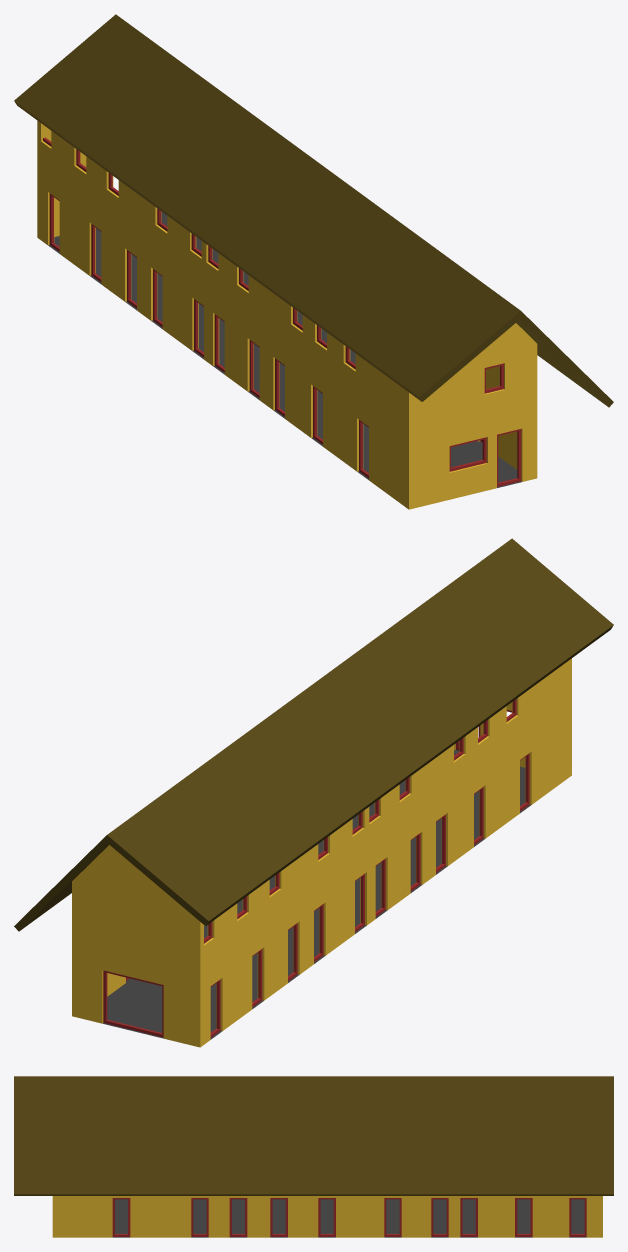
Rendered from result.dae.
The picture shows the model from 3 angles, top to bottom: view 1: azimuth 30°, elevation 25°; view 2: azimuth 150°, elevation 25°; view 3: azimuth 270°, elevation 25°; orthographic projection. The views are drawn at different scales.
Visible parts, largest first — view 1: 794bcbae-4f09-48e4-bf8c-0246c3dde134__undefined (×5), a7e94f88-aae9-4187-b9a9-494f67b69dd1__undefined (×3), 9594ddf9-9bd0-4304-9cac-db482d6d5795__Plane_44; view 2: 794bcbae-4f09-48e4-bf8c-0246c3dde134__undefined (×4), a7e94f88-aae9-4187-b9a9-494f67b69dd1__undefined (×2), 9594ddf9-9bd0-4304-9cac-db482d6d5795__Plane_44; view 3: 794bcbae-4f09-48e4-bf8c-0246c3dde134__undefined (×2), a7e94f88-aae9-4187-b9a9-494f67b69dd1__undefined, 9594ddf9-9bd0-4304-9cac-db482d6d5795__Plane_44, 33b44010-f37b-4433-b800-13106a17f098__Box_72, 989ac312-3321-41dc-83c0-2c2537cbc3db__Box_78, fe1f54cd-5591-4ad4-9a99-13c8316897f2__Box_75, 1c52af7b-0572-4719-86cf-05e3d86c9477__Box_81, af0575fb-48b6-48bd-8cde-2fba1254388c__Box_84, ec3800ea-4eae-452a-8856-5e3fd904c959__Box_87, 8623eaa5-c748-419d-b1b7-ebdd51a5ea54__Box_90, b7cd550a-a70c-423d-8f49-cf78afdb8b3d__Box_93, 13ca04b9-2234-4efd-9941-6e96e63d688c__Box_96 (+1 smaller).
Boxes of the visible parts, x1,y1,x2,y2 form: 794bcbae-4f09-48e4-bf8c-0246c3dde134__undefined (×5): (14, 14, 613, 407); a7e94f88-aae9-4187-b9a9-494f67b69dd1__undefined (×3): (37, 120, 537, 509); 9594ddf9-9bd0-4304-9cac-db482d6d5795__Plane_44: (48, 212, 521, 487); 794bcbae-4f09-48e4-bf8c-0246c3dde134__undefined (×4): (14, 538, 613, 931); a7e94f88-aae9-4187-b9a9-494f67b69dd1__undefined (×2): (72, 658, 571, 1047); 9594ddf9-9bd0-4304-9cac-db482d6d5795__Plane_44: (103, 750, 530, 1039); 794bcbae-4f09-48e4-bf8c-0246c3dde134__undefined (×2): (14, 1076, 613, 1195); a7e94f88-aae9-4187-b9a9-494f67b69dd1__undefined: (52, 1196, 602, 1237); 9594ddf9-9bd0-4304-9cac-db482d6d5795__Plane_44: (112, 1199, 586, 1237); 33b44010-f37b-4433-b800-13106a17f098__Box_72: (112, 1198, 130, 1236); 989ac312-3321-41dc-83c0-2c2537cbc3db__Box_78: (229, 1198, 247, 1236); fe1f54cd-5591-4ad4-9a99-13c8316897f2__Box_75: (191, 1198, 208, 1236); 1c52af7b-0572-4719-86cf-05e3d86c9477__Box_81: (270, 1198, 287, 1236); af0575fb-48b6-48bd-8cde-2fba1254388c__Box_84: (318, 1198, 335, 1236); ec3800ea-4eae-452a-8856-5e3fd904c959__Box_87: (384, 1198, 401, 1236); 8623eaa5-c748-419d-b1b7-ebdd51a5ea54__Box_90: (431, 1198, 448, 1236); b7cd550a-a70c-423d-8f49-cf78afdb8b3d__Box_93: (460, 1198, 477, 1236); 13ca04b9-2234-4efd-9941-6e96e63d688c__Box_96: (515, 1198, 532, 1236).
Bounding box in the file's own units: 762 × 736 × 2742.
